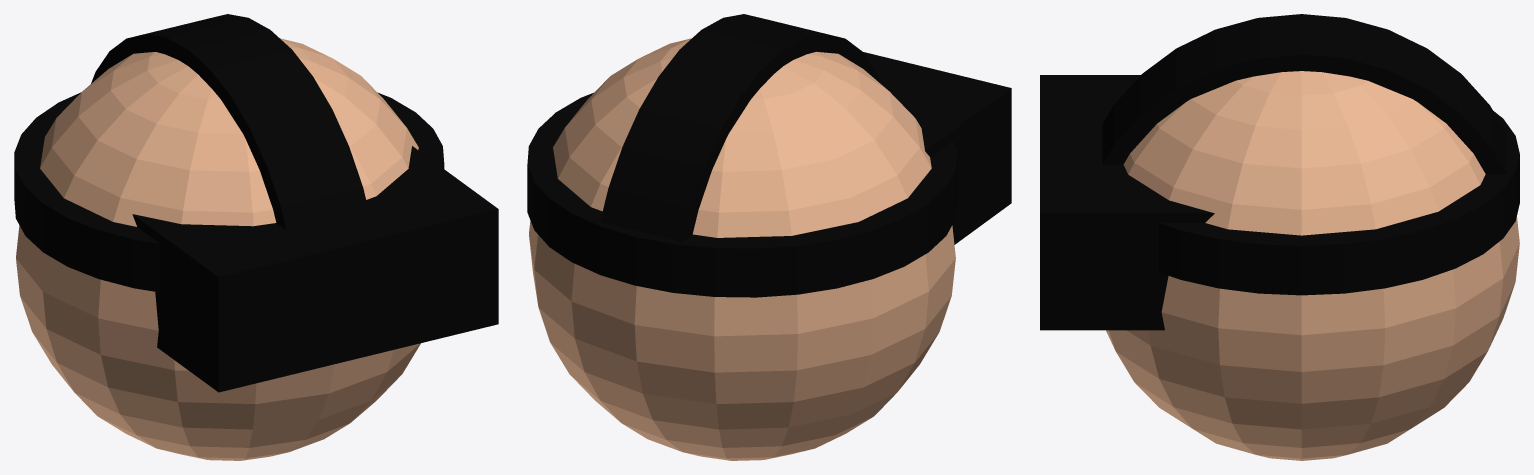
Rendered from Avatar_Head_v1.fbx.
3 renders of one model, left to right at view 1: azimuth 30°, elevation 25°; view 2: azimuth 150°, elevation 25°; view 3: azimuth 270°, elevation 25°, orthographic.
Visible parts, largest first — view 1: Avatar_Head_v1; view 2: Avatar_Head_v1; view 3: Avatar_Head_v1.
Boxes of the visible parts, box(x1,y1,x2,y2) form: Avatar_Head_v1: box(14, 14, 498, 460); Avatar_Head_v1: box(527, 14, 1011, 460); Avatar_Head_v1: box(1040, 14, 1519, 460).
Size of the model in its own units: 23.64 by 24.31 by 26.01.
